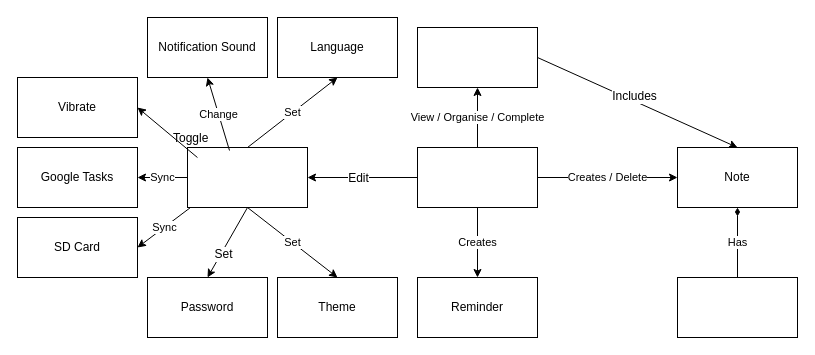
The diagram is 815 pixels wide and 355 high, and some of its shapes have lost their labels. Here are the shapes that lost their labels. From the top down, the centre of each, then its label:
the point at 477,57: Task
the point at 247,177: Settings
the point at 477,177: User
the point at 737,307: Text
